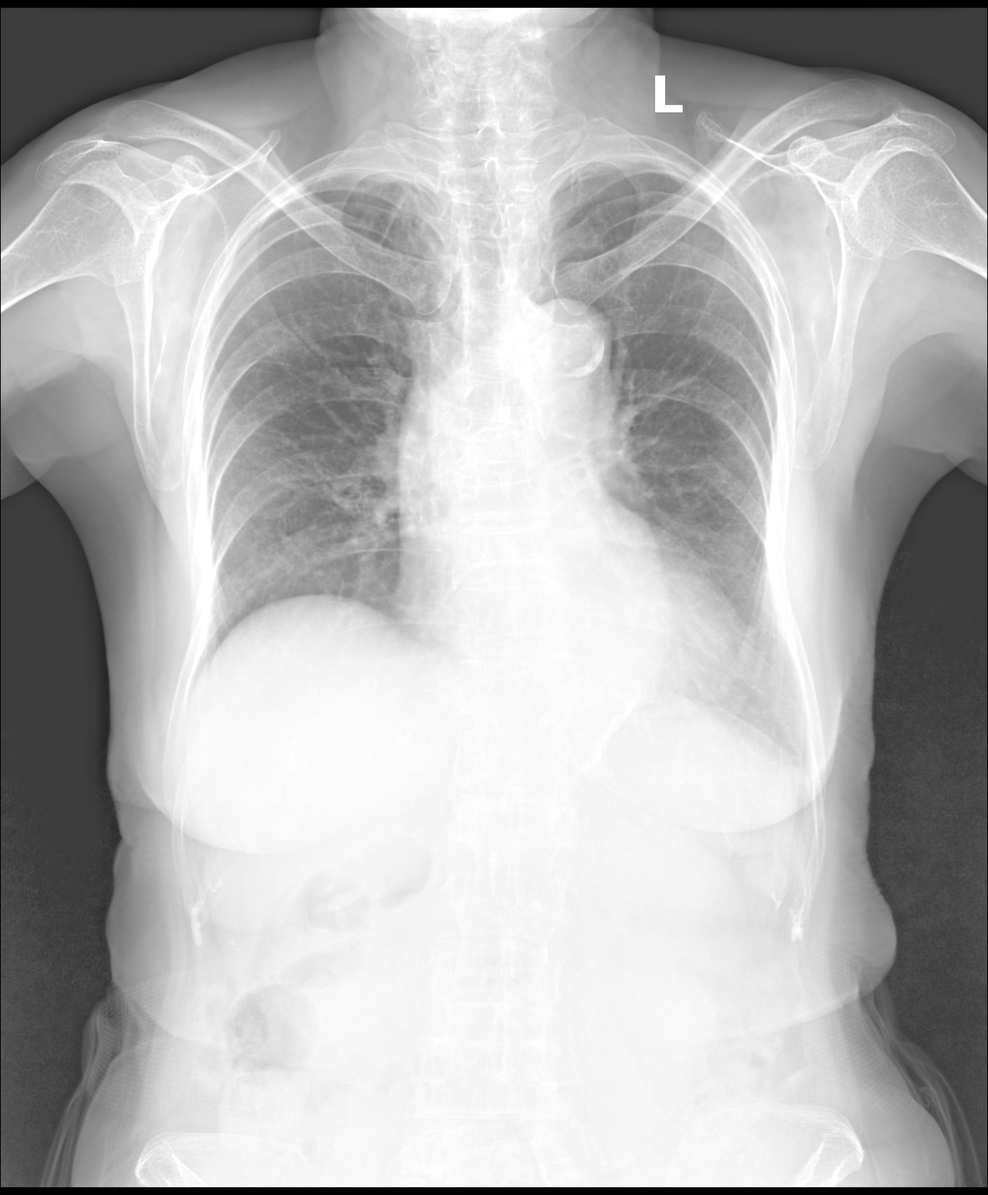Aortic enlargement: (501, 296, 612, 389)
Cardiomegaly: (388, 561, 756, 709)
Pleural thickening: (575, 147, 702, 179), (316, 162, 431, 183)
